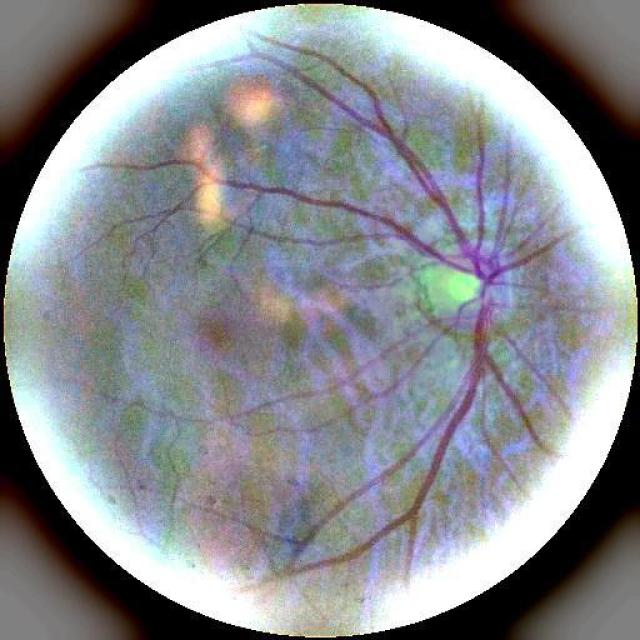Macula: (181, 305, 233, 364)
Nerves: (163, 83, 510, 575)
Optic Disk: (383, 218, 536, 358)
